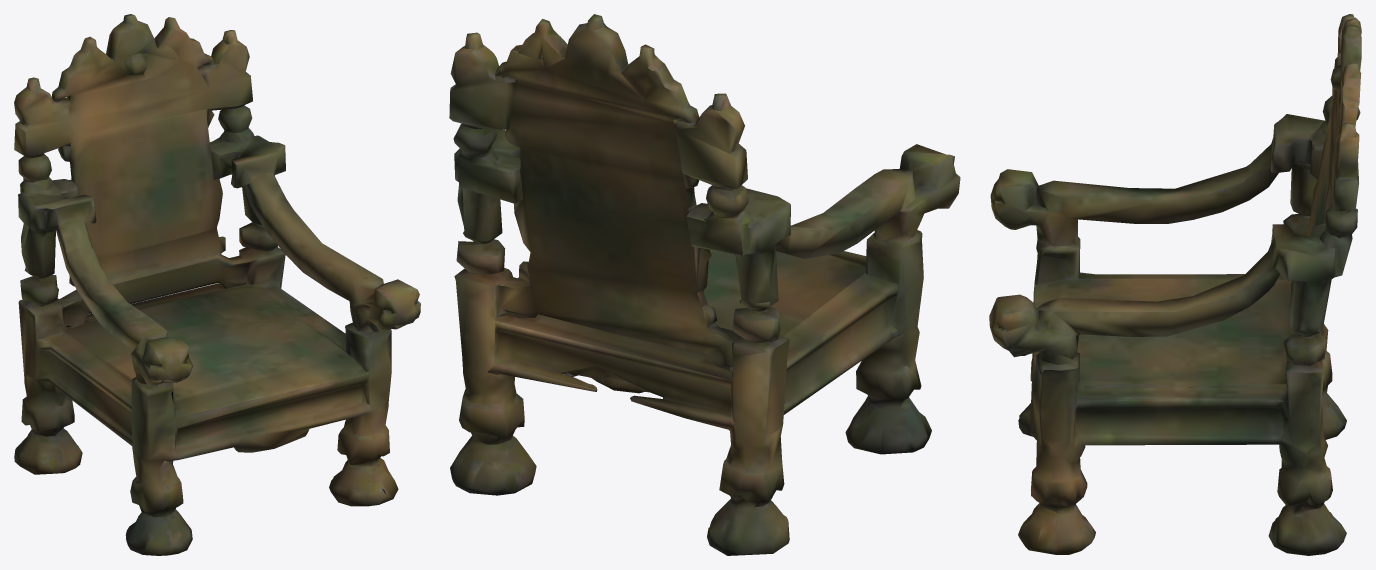
The model's file is old-bronze-throne-v001.glb.
3 renders of one model, left to right at view 1: azimuth 30°, elevation 25°; view 2: azimuth 150°, elevation 25°; view 3: azimuth 270°, elevation 25°, orthographic. The views are drawn at different scales.
Visible parts, largest first — view 1: old-bronze-throne; view 2: old-bronze-throne; view 3: old-bronze-throne.
Boxes of the visible parts, box(x1,y1,x2,y2) form: old-bronze-throne: box(14, 14, 420, 555); old-bronze-throne: box(449, 14, 960, 555); old-bronze-throne: box(989, 14, 1361, 555).
Bounding box in the file's own units: 1.17 × 1.67 × 1.23.
1 material, 1 textured.
